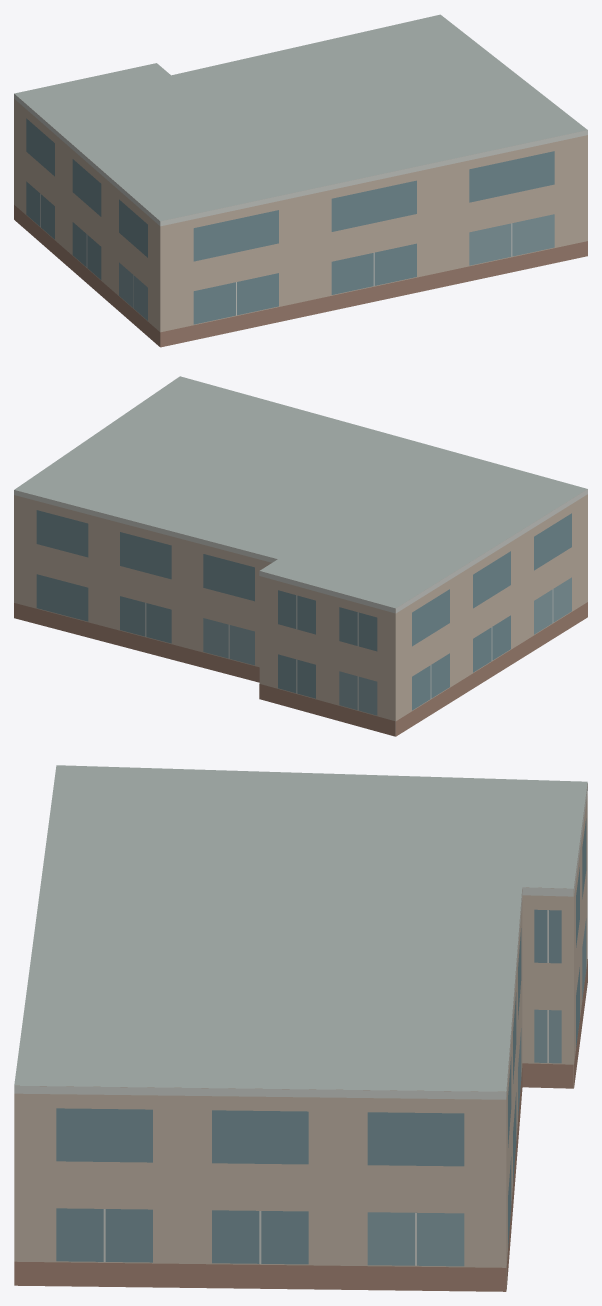
Rendered from survey-upis-32843315.glb.
3 renders of one model, top to bottom at view 1: azimuth 30°, elevation 25°; view 2: azimuth 150°, elevation 25°; view 3: azimuth 270°, elevation 25°, orthographic. The views are drawn at different scales.
Parts seen in each view (by area): view 1: survey-upis-32843315.tmp; view 2: survey-upis-32843315.tmp; view 3: survey-upis-32843315.tmp.
Boxes of the visible parts, left/top/right/bottom form: survey-upis-32843315.tmp: left=14, top=14, right=587, bottom=347; survey-upis-32843315.tmp: left=14, top=376, right=587, bottom=736; survey-upis-32843315.tmp: left=14, top=765, right=587, bottom=1291.
Size of the model in its own units: 21.38 by 6.1 by 15.87.
